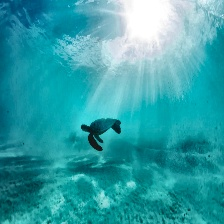seaturtle: (80, 118, 122, 151)
